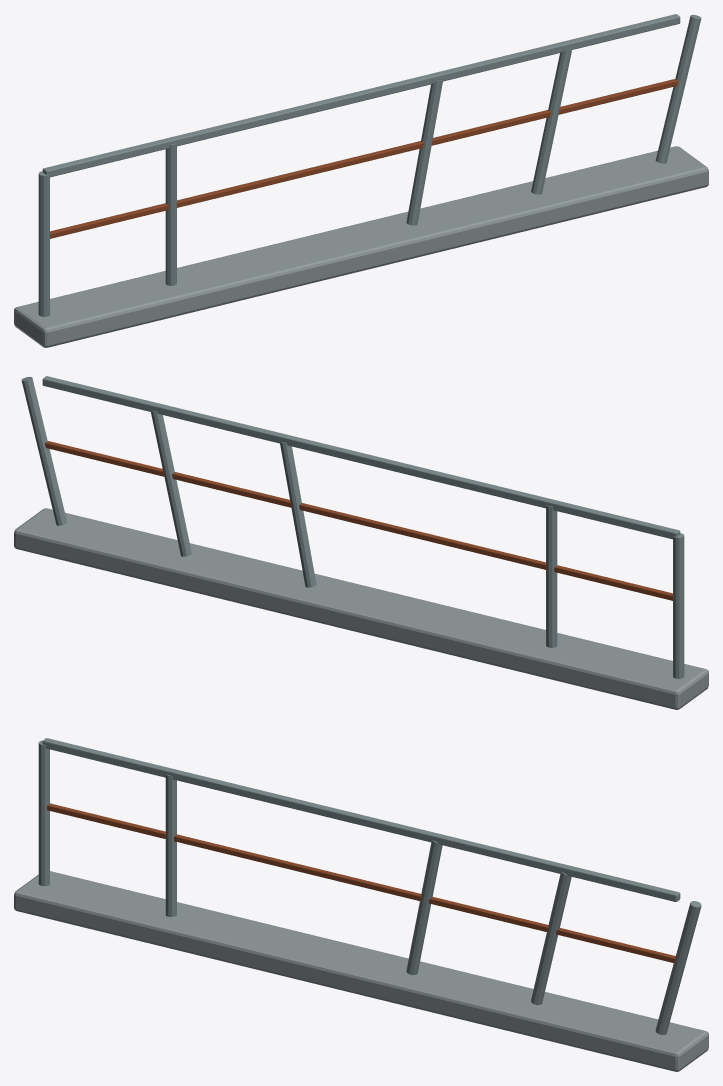
The model's file is SM_FC01_Prop_Railing_Damaged_A.fbx.
3 views of the same model, one above another, from view 1: azimuth 30°, elevation 25°; view 2: azimuth 150°, elevation 25°; view 3: azimuth 330°, elevation 25° (orthographic).
Parts seen in each view (by area): view 1: SM_FC01_Prop_Railing_Damaged_A_Footing, SM_FC01_Prop_Railing_Damaged_A_RailTop, SM_FC01_Prop_Railing_Damaged_A_RailMid, SM_FC01_Prop_Railing_Damaged_A_Post_05, SM_FC01_Prop_Railing_Damaged_A_Post_04, SM_FC01_Prop_Railing_Damaged_A_Post_00, SM_FC01_Prop_Railing_Damaged_A_Post_03, SM_FC01_Prop_Railing_Damaged_A_Post_01; view 2: SM_FC01_Prop_Railing_Damaged_A_Footing, SM_FC01_Prop_Railing_Damaged_A_RailTop, SM_FC01_Prop_Railing_Damaged_A_RailMid, SM_FC01_Prop_Railing_Damaged_A_Post_05, SM_FC01_Prop_Railing_Damaged_A_Post_04, SM_FC01_Prop_Railing_Damaged_A_Post_00, SM_FC01_Prop_Railing_Damaged_A_Post_03, SM_FC01_Prop_Railing_Damaged_A_Post_01; view 3: SM_FC01_Prop_Railing_Damaged_A_Footing, SM_FC01_Prop_Railing_Damaged_A_RailTop, SM_FC01_Prop_Railing_Damaged_A_RailMid, SM_FC01_Prop_Railing_Damaged_A_Post_05, SM_FC01_Prop_Railing_Damaged_A_Post_00, SM_FC01_Prop_Railing_Damaged_A_Post_01, SM_FC01_Prop_Railing_Damaged_A_Post_03, SM_FC01_Prop_Railing_Damaged_A_Post_04.
Boxes of the visible parts, bbox=[...] form: SM_FC01_Prop_Railing_Damaged_A_Footing: bbox=[14, 146, 708, 347]; SM_FC01_Prop_Railing_Damaged_A_RailTop: bbox=[42, 14, 680, 177]; SM_FC01_Prop_Railing_Damaged_A_RailMid: bbox=[50, 79, 678, 238]; SM_FC01_Prop_Railing_Damaged_A_Post_05: bbox=[655, 14, 701, 163]; SM_FC01_Prop_Railing_Damaged_A_Post_04: bbox=[531, 49, 571, 194]; SM_FC01_Prop_Railing_Damaged_A_Post_00: bbox=[38, 171, 49, 316]; SM_FC01_Prop_Railing_Damaged_A_Post_03: bbox=[406, 80, 442, 225]; SM_FC01_Prop_Railing_Damaged_A_Post_01: bbox=[165, 143, 176, 285]; SM_FC01_Prop_Railing_Damaged_A_Footing: bbox=[14, 508, 708, 709]; SM_FC01_Prop_Railing_Damaged_A_RailTop: bbox=[42, 376, 680, 539]; SM_FC01_Prop_Railing_Damaged_A_RailMid: bbox=[44, 441, 672, 600]; SM_FC01_Prop_Railing_Damaged_A_Post_05: bbox=[21, 376, 67, 525]; SM_FC01_Prop_Railing_Damaged_A_Post_04: bbox=[151, 411, 191, 556]; SM_FC01_Prop_Railing_Damaged_A_Post_00: bbox=[673, 533, 684, 678]; SM_FC01_Prop_Railing_Damaged_A_Post_03: bbox=[280, 442, 316, 587]; SM_FC01_Prop_Railing_Damaged_A_Post_01: bbox=[546, 505, 557, 647]; SM_FC01_Prop_Railing_Damaged_A_Footing: bbox=[14, 871, 708, 1071]; SM_FC01_Prop_Railing_Damaged_A_RailTop: bbox=[42, 738, 680, 901]; SM_FC01_Prop_Railing_Damaged_A_RailMid: bbox=[47, 803, 675, 962]; SM_FC01_Prop_Railing_Damaged_A_Post_05: bbox=[655, 901, 701, 1034]; SM_FC01_Prop_Railing_Damaged_A_Post_00: bbox=[38, 740, 49, 886]; SM_FC01_Prop_Railing_Damaged_A_Post_01: bbox=[165, 774, 176, 916]; SM_FC01_Prop_Railing_Damaged_A_Post_03: bbox=[406, 840, 442, 975]; SM_FC01_Prop_Railing_Damaged_A_Post_04: bbox=[531, 872, 571, 1005].
Bounding box in the file's own units: 4.24 × 0.9925 × 0.35.
